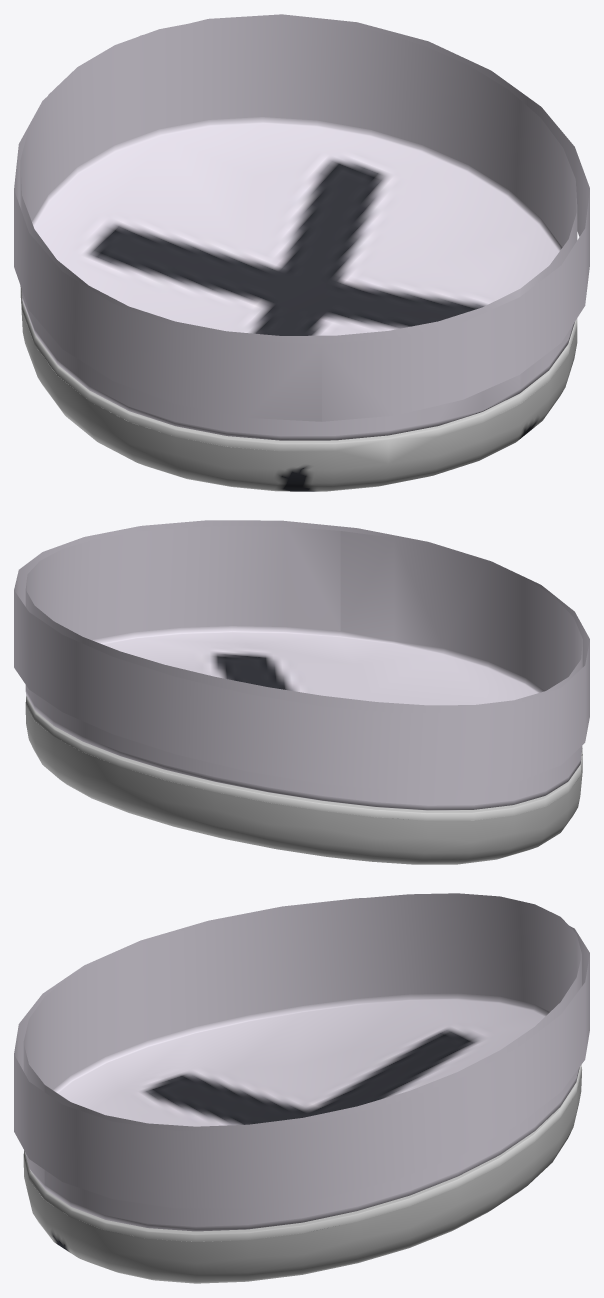
File: btn_cross.obj
3 views of the same model, one above another, from view 1: azimuth 30°, elevation 25°; view 2: azimuth 150°, elevation 25°; view 3: azimuth 270°, elevation 25° (orthographic).
Visible parts, largest first — view 1: btn_cross; view 2: btn_cross; view 3: btn_cross.
Boxes of the visible parts, box(x1,y1,x2,y2) form: btn_cross: box(14, 14, 589, 491); btn_cross: box(14, 520, 589, 864); btn_cross: box(14, 893, 589, 1283).
Bounding box in the file's own units: 0.13 × 0.0628 × 0.13.
